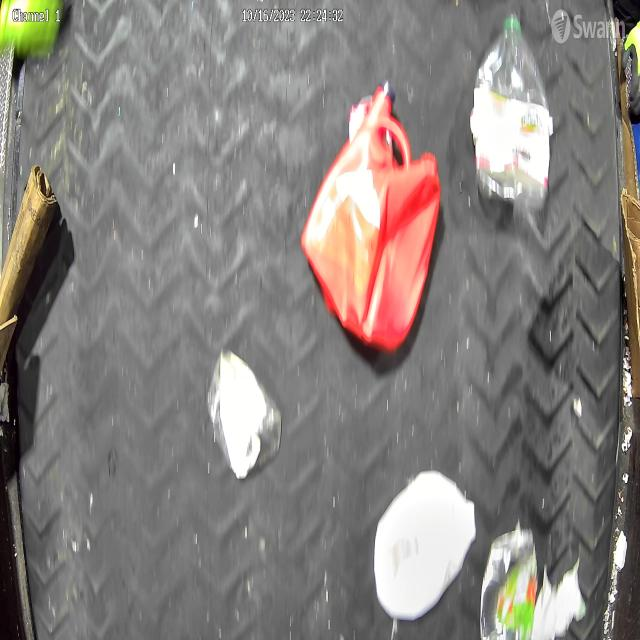can: (479, 528, 538, 640)
milk_jug: (374, 468, 479, 621)
non_white_jug: (302, 91, 440, 352)
plastic_bottle: (472, 11, 552, 206)
